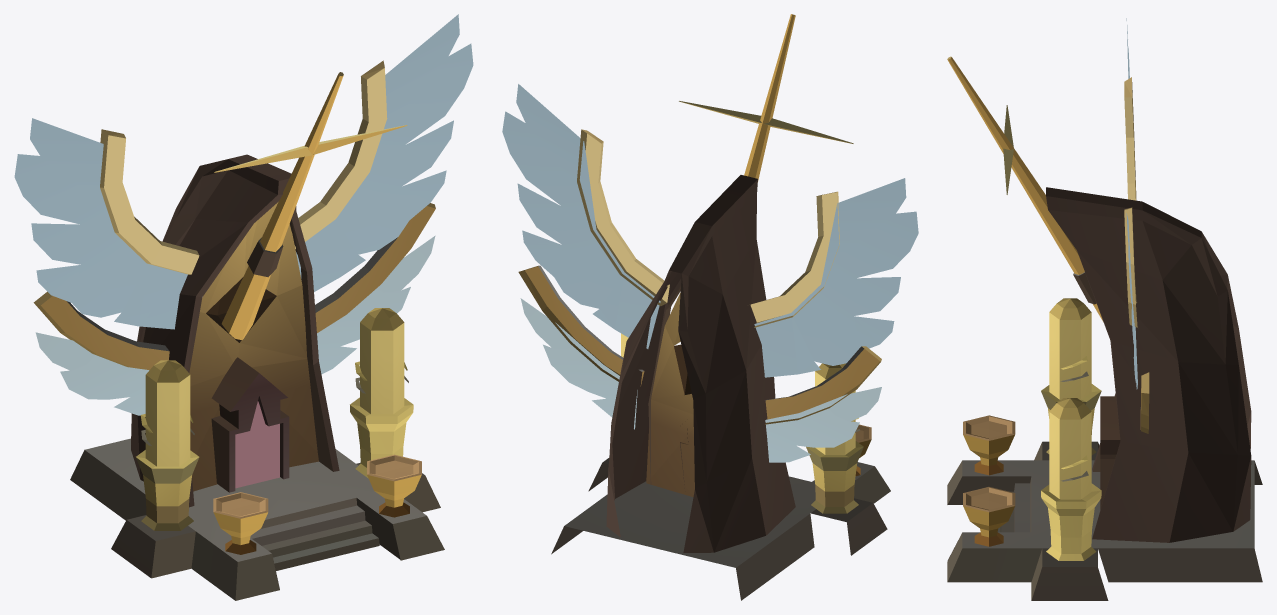
File: castle16.fbx
3 renders of one model, left to right at view 1: azimuth 30°, elevation 25°; view 2: azimuth 150°, elevation 25°; view 3: azimuth 270°, elevation 25°, orthographic. The views are drawn at different scales.
Visible parts, largest first — view 1: castle16; view 2: castle16; view 3: castle16.
Boxes of the visible parts, x1,y1,x2,y2 form: castle16: [14, 14, 473, 600]; castle16: [502, 14, 918, 600]; castle16: [947, 18, 1262, 600].
Bounding box in the file's own units: 3.53 × 3.68 × 2.2.
Materials: 1 (1 with a texture image).
